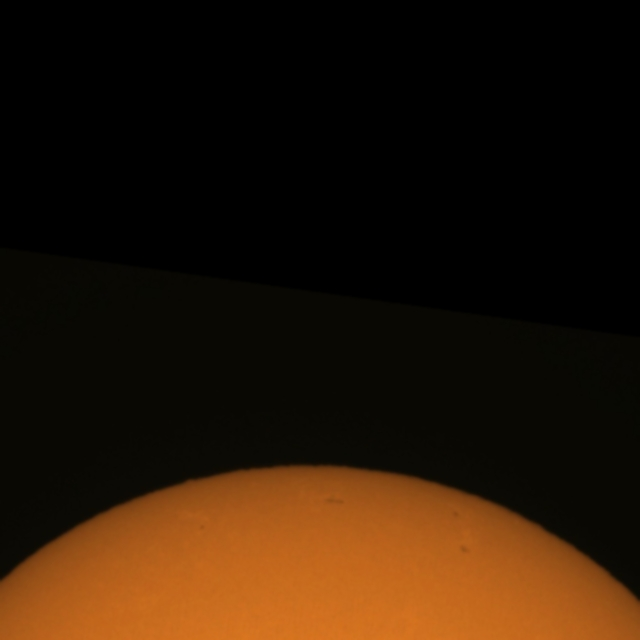sunspot: (458, 542, 472, 556), (198, 522, 206, 534)
